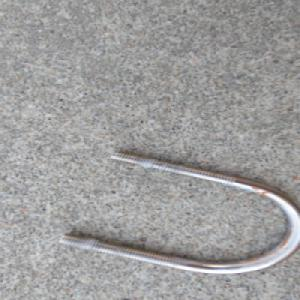ClampPart: (55, 151, 300, 276)
